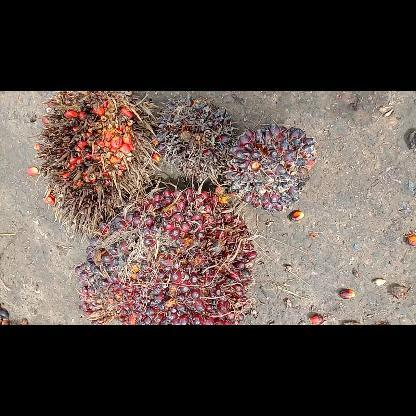TBS abnormal: (226, 122, 318, 214), (154, 96, 236, 184)
TBS masak: (74, 186, 258, 324)
Terlalu masak: (30, 90, 158, 244)
